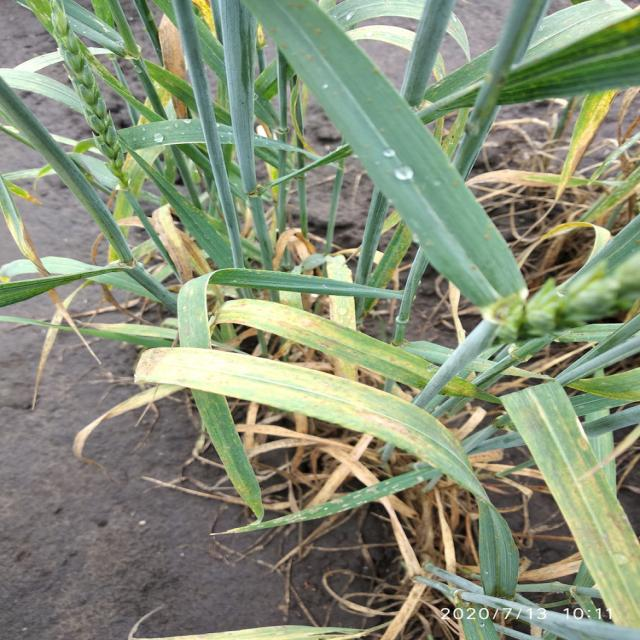wheat-septoria: (134, 348, 492, 509), (500, 382, 640, 631), (214, 298, 439, 390)
